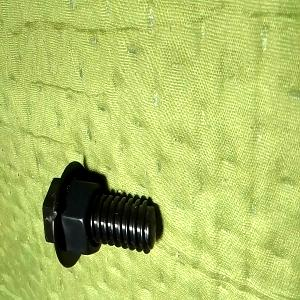parafuso: (42, 159, 157, 269)
